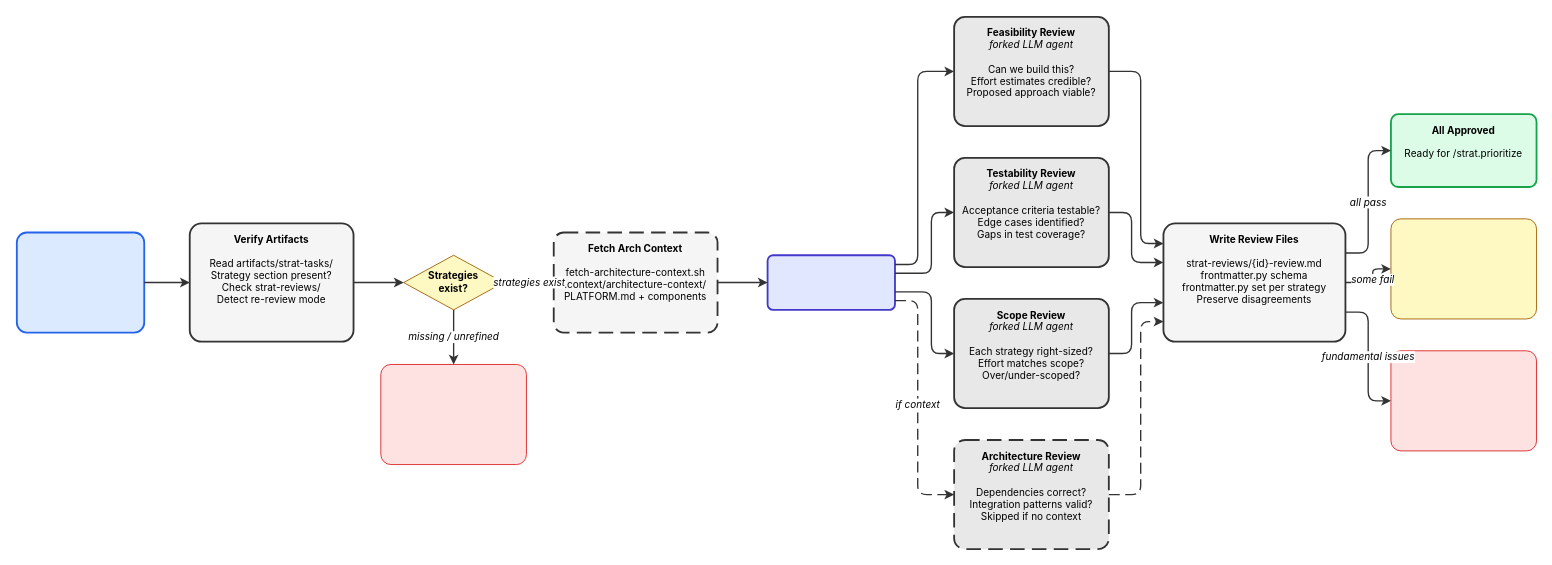
This 1552x565 diagram has some shape labels left out. The box of each missing label's shape, as (x1, y1, x2, y2) in pixels:
/strat.review Strategy review orchestrator Reads strat-tasks/ YAML frontmatter: (15, 231, 145, 333)
Fundamental Problems Revisit the RFE Re-run /strat.refine Different constraints: (1390, 350, 1537, 451)
Launch 4 Reviewers parallel fork: (766, 254, 895, 310)
Needs Revision List specific issues Edit strategies, re-run /strat.review again: (1390, 218, 1537, 319)
Stop No strategies found Or not yet refined Tell user: run /strat.refine: (380, 364, 526, 465)
